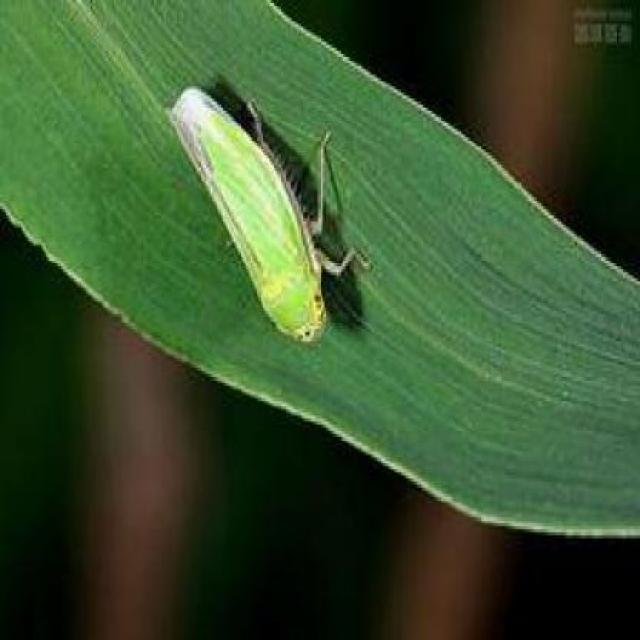green-leafhopper: (164, 79, 356, 338)
